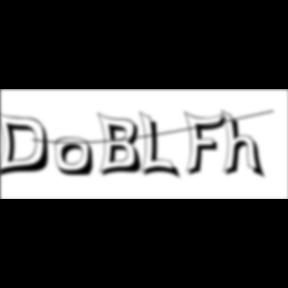B: (97, 111, 147, 179)
D: (0, 110, 56, 180)
F: (184, 110, 232, 178)
L: (139, 110, 183, 182)
h: (222, 108, 268, 182)
o: (55, 137, 97, 179)
